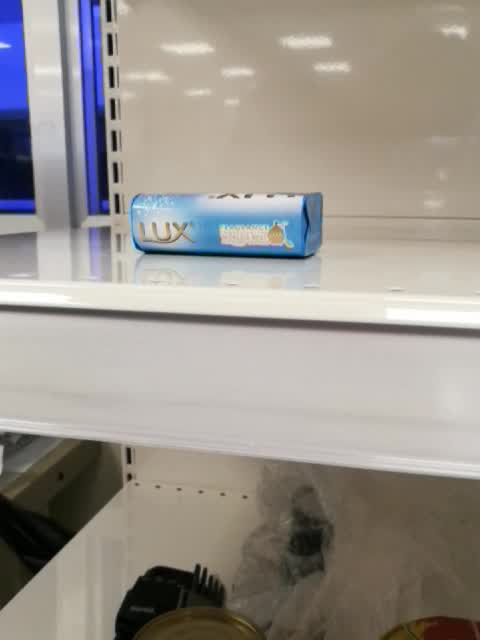soap: (130, 190, 323, 260)
